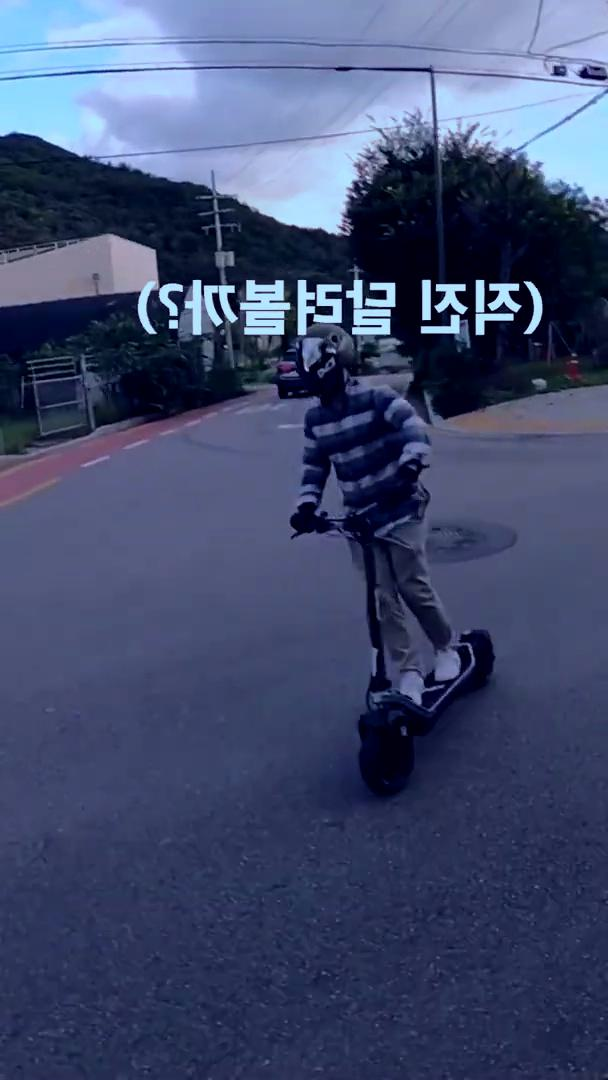helmet: (288, 322, 498, 799)
